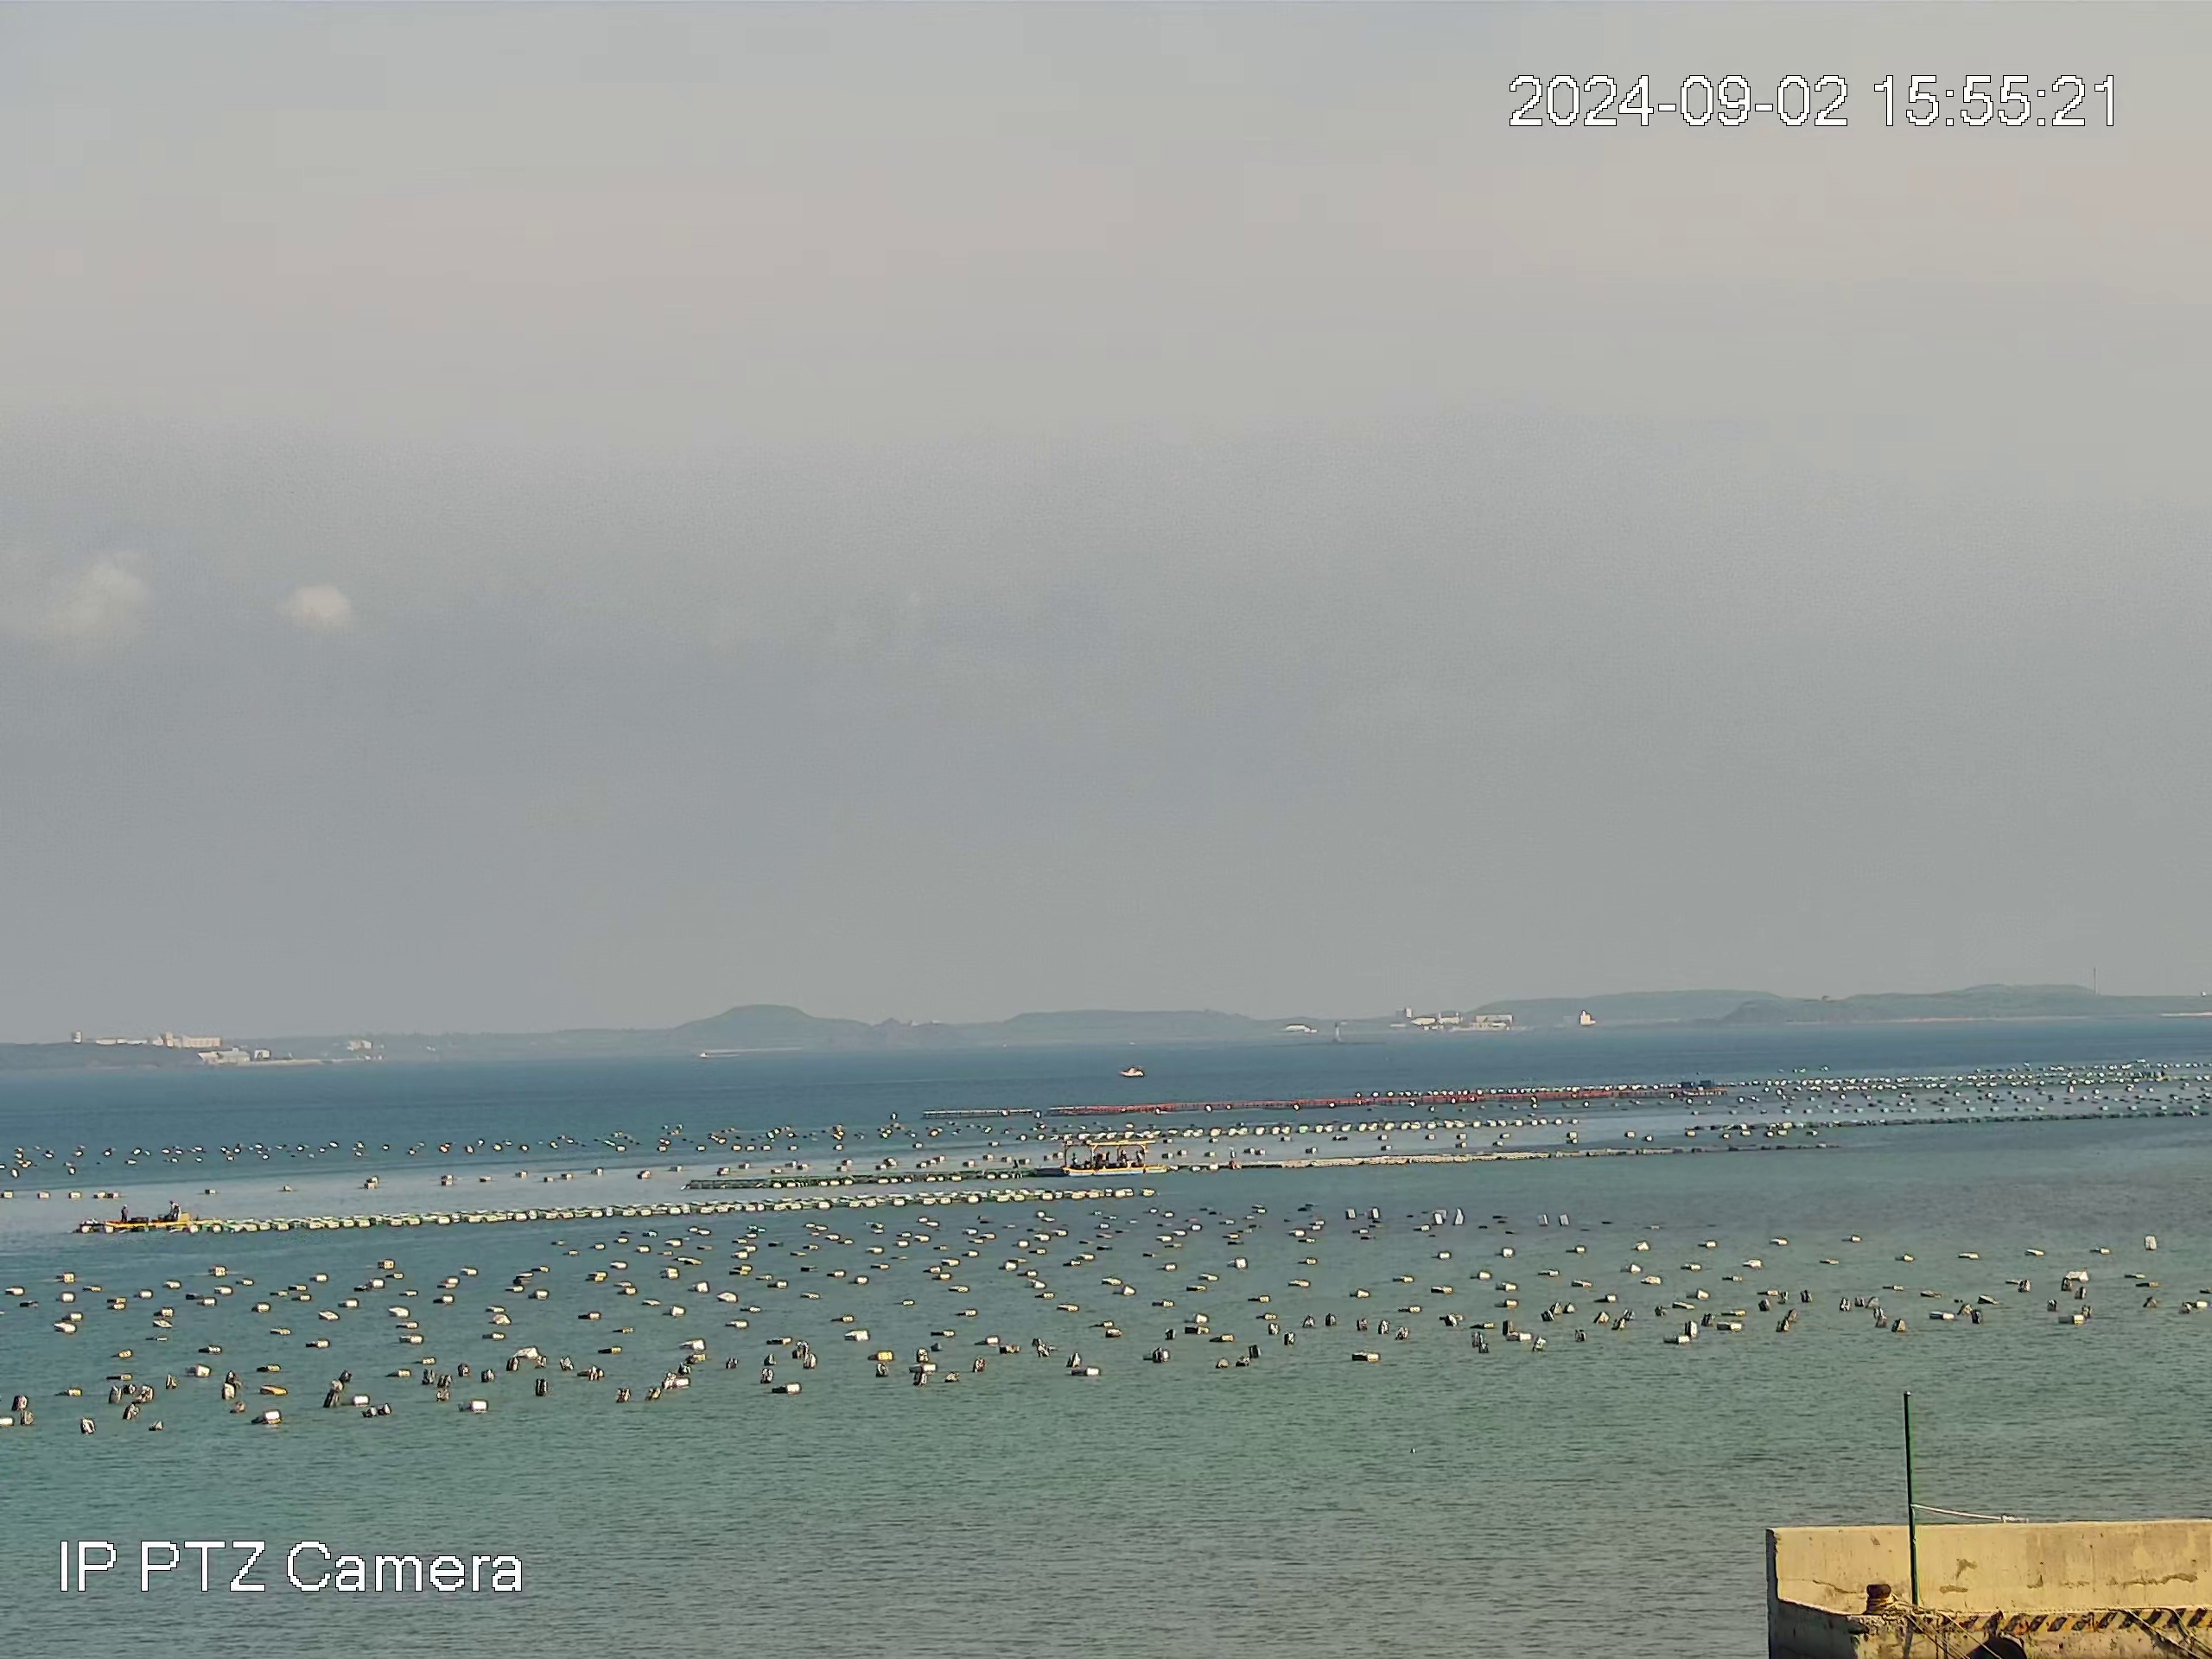boat: (1059, 1136, 1167, 1178), (103, 1201, 192, 1225), (1116, 1063, 1146, 1079)
